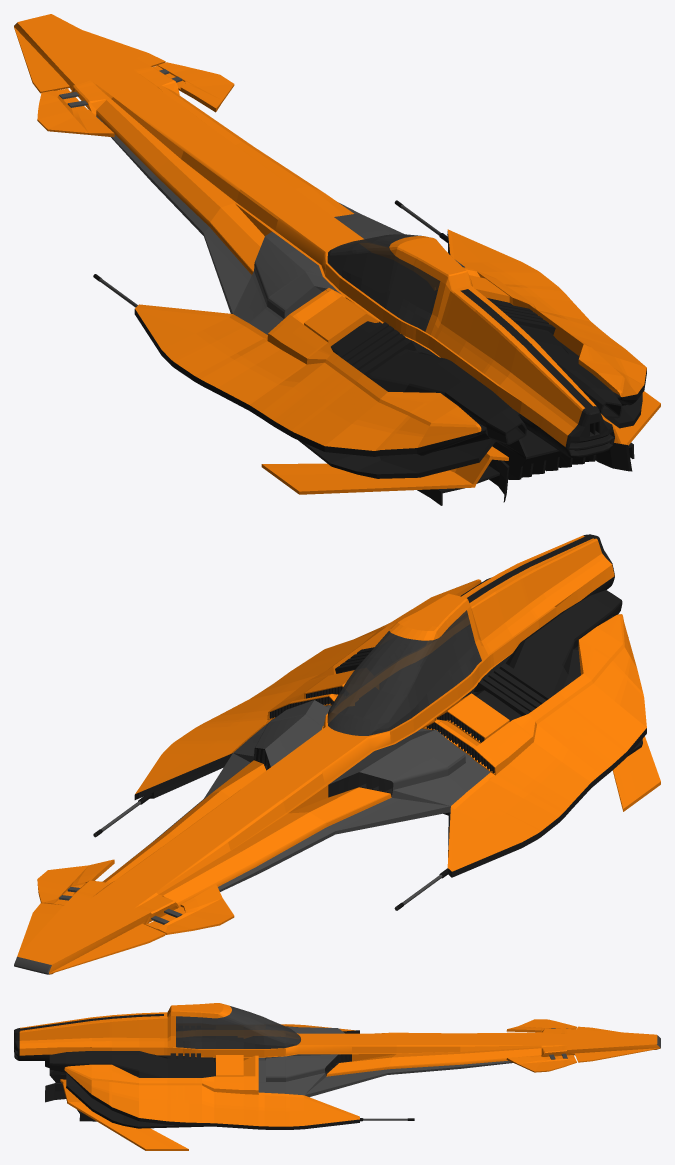
The model's file is vaisseau.obj.
3 views of the same model, one above another, from view 1: azimuth 30°, elevation 25°; view 2: azimuth 150°, elevation 25°; view 3: azimuth 270°, elevation 25° (orthographic). The views are drawn at different scales.
Visible parts, largest first — view 1: Caroserrie, Carbon, Fer, Vitre; view 2: Caroserrie, Carbon, Fer, Vitre; view 3: Caroserrie, Carbon, Fer, Vitre.
Part boxes in pixels (x1,y1,x2,y2): Caroserrie: [14, 14, 660, 494]; Carbon: [134, 231, 646, 505]; Fer: [14, 23, 464, 334]; Vitre: [327, 234, 440, 331]; Caroserrie: [17, 535, 660, 974]; Carbon: [134, 534, 646, 877]; Fer: [14, 700, 490, 974]; Vitre: [327, 610, 481, 735]; Caroserrie: [19, 1003, 660, 1150]; Carbon: [14, 1014, 359, 1129]; Fer: [258, 1026, 660, 1097]; Vitre: [176, 1006, 300, 1048].
Size of the model in its own units: 1.31 by 0.5495 by 3.48.
